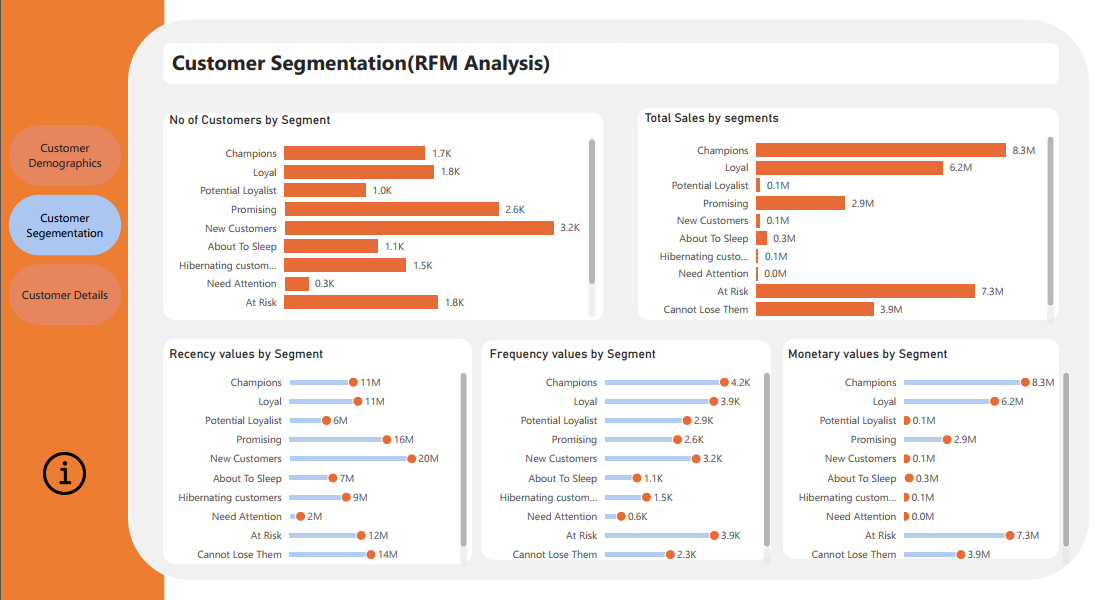

What the dashboard file says about the page in this screenshot:
{"tool":"powerbi","page":{"name":"Customer Segementation","canvas":[1280,720],"ordinal":1},"visuals":[{"type":"barChart","title":"No of Customers by Segment","fields":{"Y":["Count(FactInternetSales.CustomerKey)"],"Category":["Segment Table.Segment"]},"box":[191.4,151.4,505.7,242.9],"z":0},{"type":"barChart","title":"Total Sales by segments","fields":{"Category":["Segment Table.Segment"],"Y":["Sum(FactInternetSales.SalesAmount)"]},"box":[743.8,147.5,486.2,252.5],"z":1000},{"type":"barChart","title":"Recency values by Segment","fields":{"Y":["Sum(RFM Table.Recency Value)"],"Category":["Segment Table.Segment"]},"box":[191.2,422.5,356.2,258.8],"z":2000},{"type":"barChart","title":"Frequency values by Segment","fields":{"Category":["Segment Table.Segment"],"Y":["Sum(RFM Table.Frequency Value)"]},"box":[563.8,422.5,336.2,258.8],"z":3000},{"type":"barChart","title":"Monetary values by Segment","fields":{"Category":["Segment Table.Segment"],"Y":["Sum(RFM Table.Monetary Value)"]},"box":[911.2,422.5,337.5,258.8],"z":4000},{"type":"textbox","box":[194.3,70,528.6,45.7],"z":4002},{"type":"pageNavigator","box":[8.8,165,131.2,235],"z":4003},{"type":"image","box":[43.8,523.8,58.8,93.8],"z":4004}]}

Visuals, with their boxes in screenshot pixels (x1, y1, x2, y2), scaled from the page's 1280x720 canvas onto the 1098x600 screenshot:
"No of Customers by Segment" barChart: x1=164 y1=126 x2=598 y2=329
"Total Sales by segments" barChart: x1=638 y1=123 x2=1055 y2=333
"Recency values by Segment" barChart: x1=164 y1=352 x2=470 y2=568
"Frequency values by Segment" barChart: x1=484 y1=352 x2=772 y2=568
"Monetary values by Segment" barChart: x1=782 y1=352 x2=1071 y2=568
textbox: x1=167 y1=58 x2=620 y2=96
pageNavigator: x1=8 y1=138 x2=120 y2=333
image: x1=38 y1=436 x2=88 y2=515
